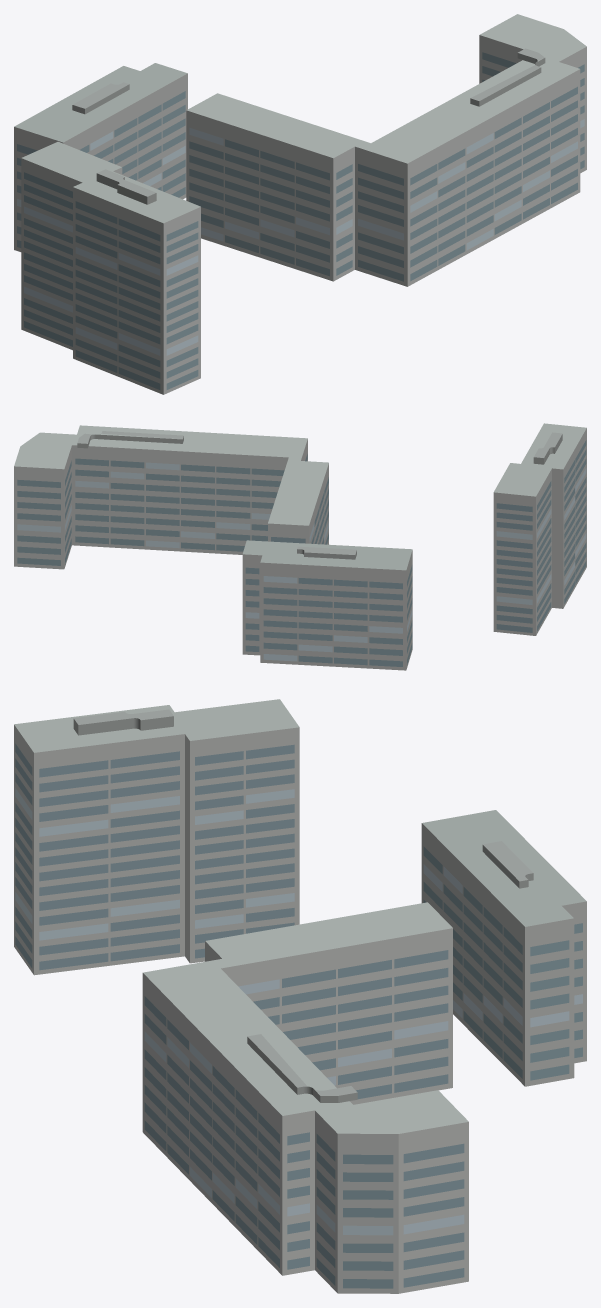
Rendered from apt-a13993002.glb.
3 renders of one model, top to bottom at view 1: azimuth 30°, elevation 25°; view 2: azimuth 150°, elevation 25°; view 3: azimuth 270°, elevation 25°, orthographic. The views are drawn at different scales.
Visible parts, largest first — view 1: apt-a13993002; view 2: apt-a13993002; view 3: apt-a13993002.
Boxes of the visible parts, left/top/right/bottom form: apt-a13993002: left=14, top=14, right=586, bottom=394; apt-a13993002: left=14, top=423, right=586, bottom=670; apt-a13993002: left=14, top=699, right=586, bottom=1293.
Size of the model in its own units: 137 by 40 by 89.2.
